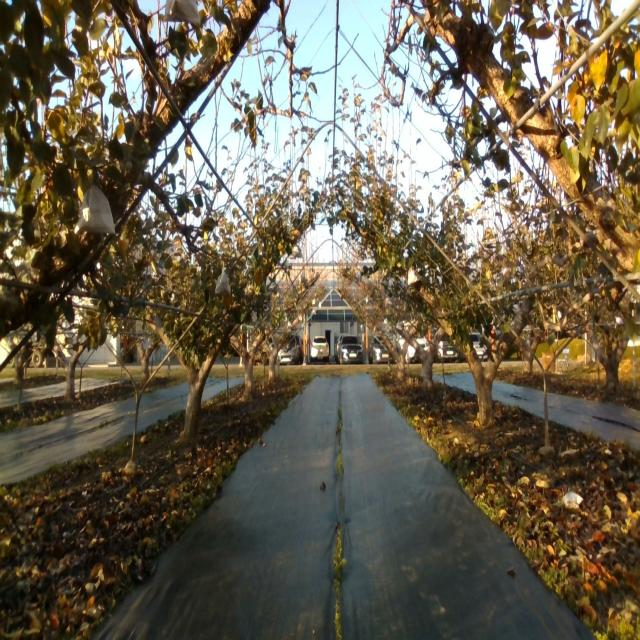pearbags: (74, 185, 115, 234), (215, 269, 231, 297), (408, 266, 418, 286)
